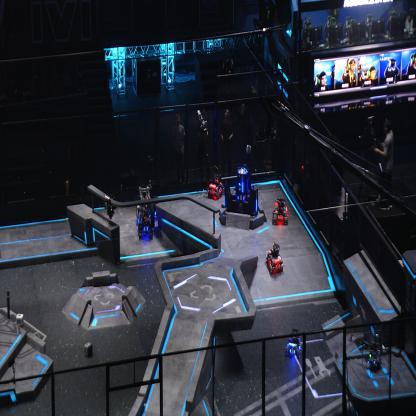car: (135, 198, 156, 239), (265, 241, 284, 274), (284, 327, 304, 357), (206, 170, 224, 197), (272, 197, 289, 224)
